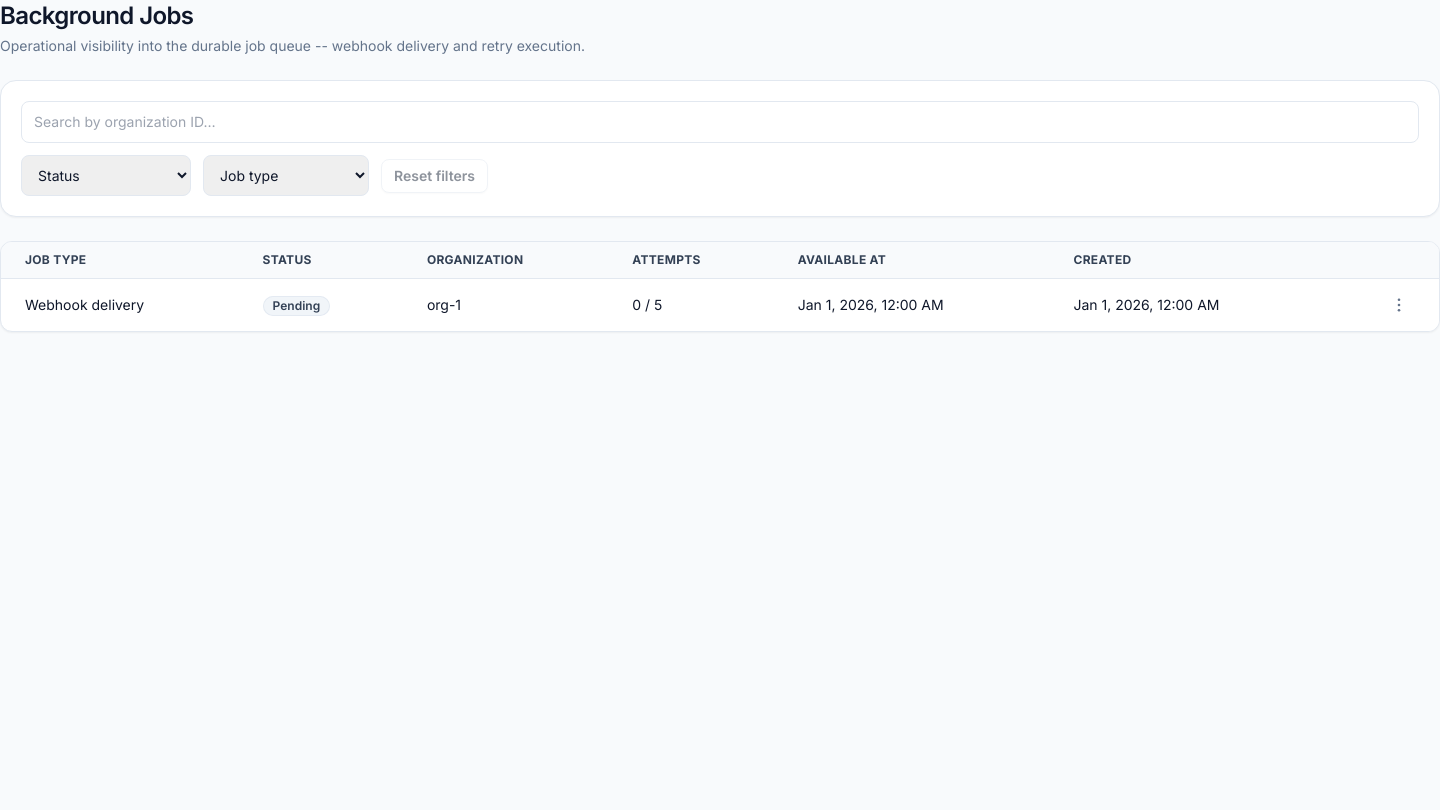
it: PlatformJobsPage › keeps the confirm button disabled until a reason is entered
The width and height of the screenshot is (1440, 810).
Click the button named "More actions".
click(1399, 305)  # box [1383,289,1415,321]
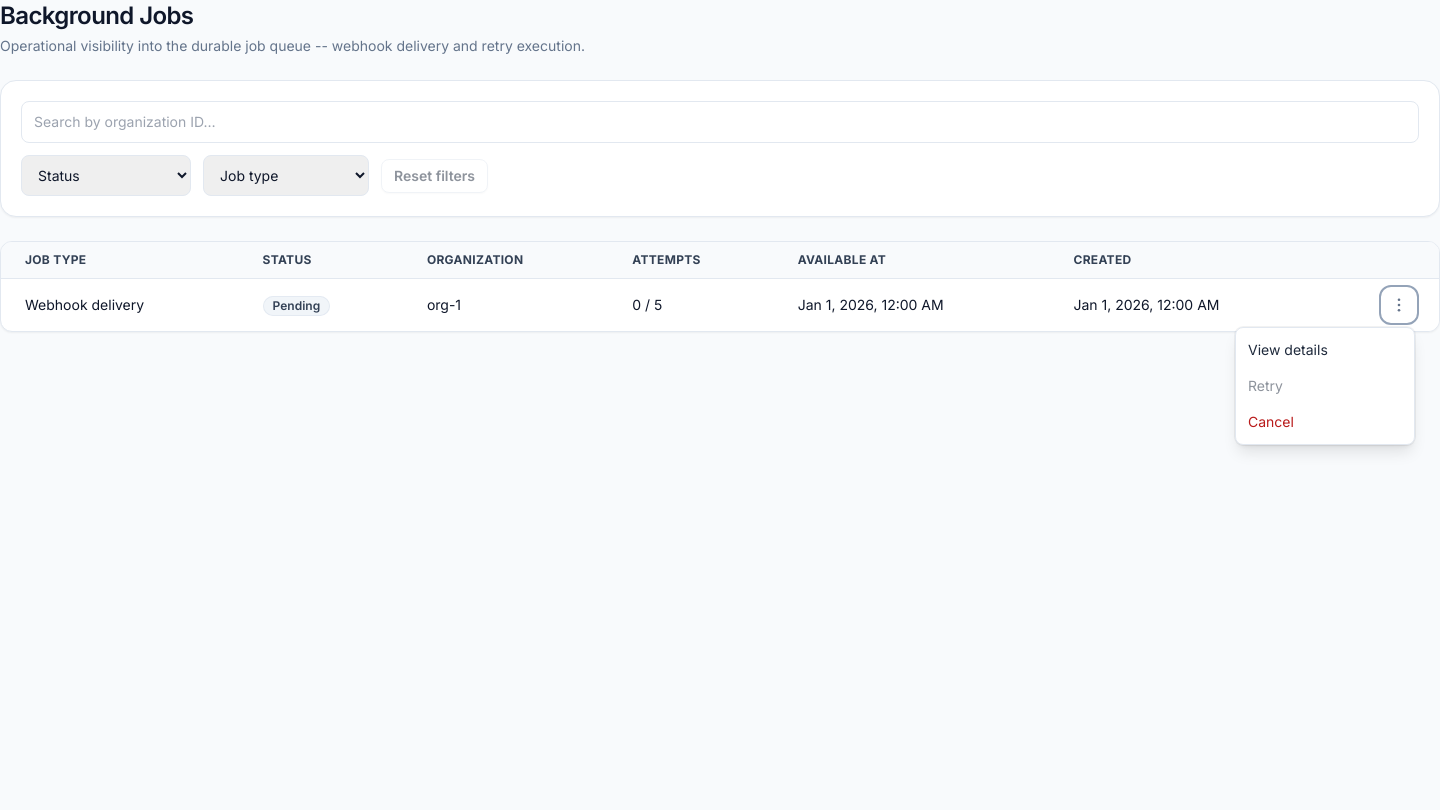
Click the menu item "Cancel".
click(1325, 422)  # box [1236,404,1414,440]
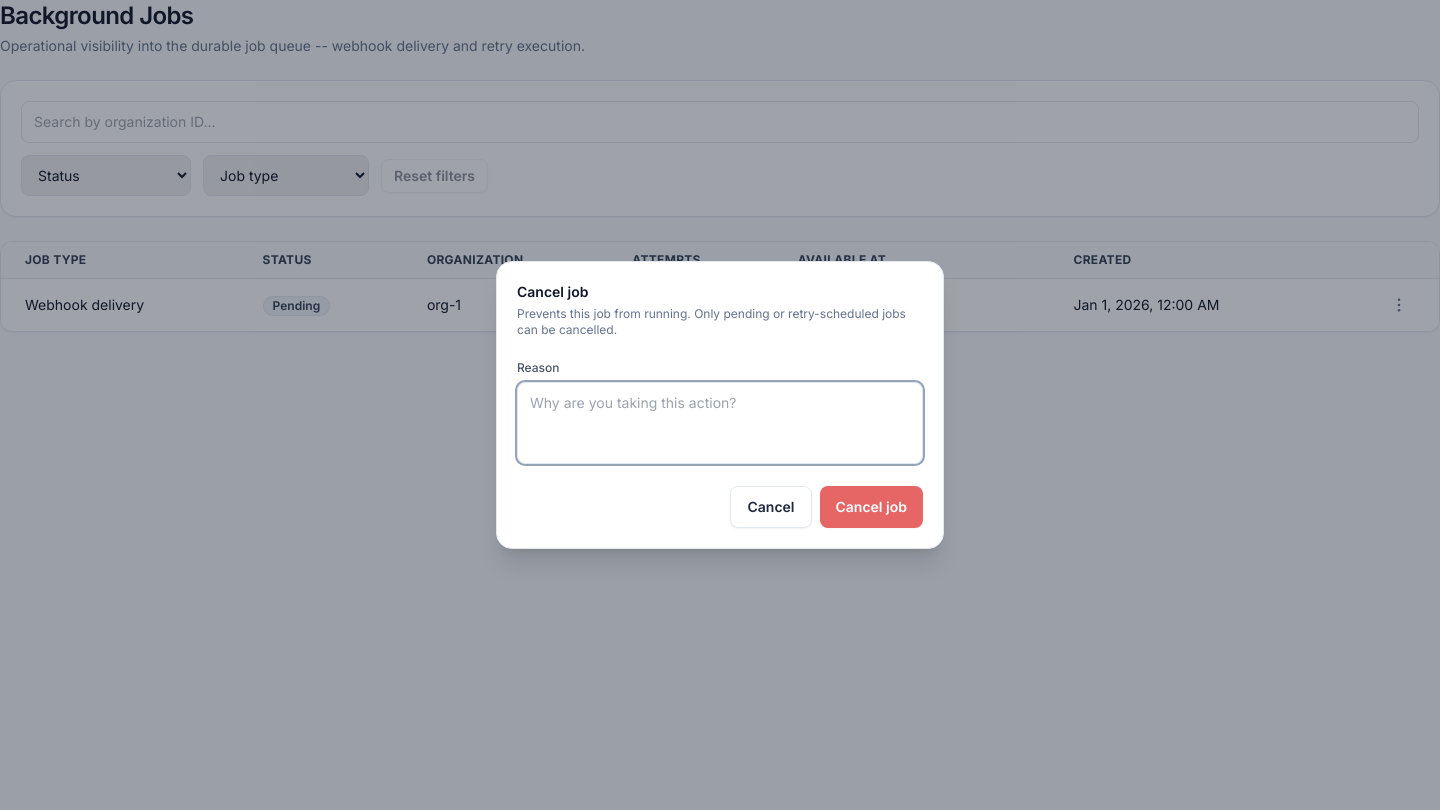
Expected: the button "Cancel job" is disabled, [820,486,923,528]
